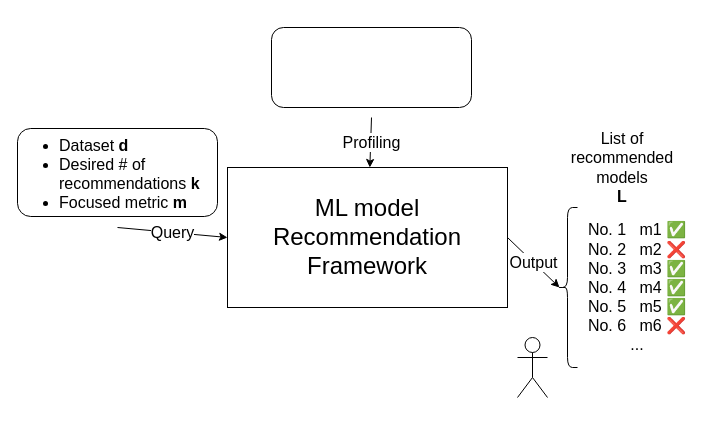
This 725x440 diagram has some shape labels left out. Each missing label, with the centre of its shape:
"Domain expert" goes at pixel 532 367.
"Existing datasets Pre-trained models past performance" goes at pixel 371 67.
